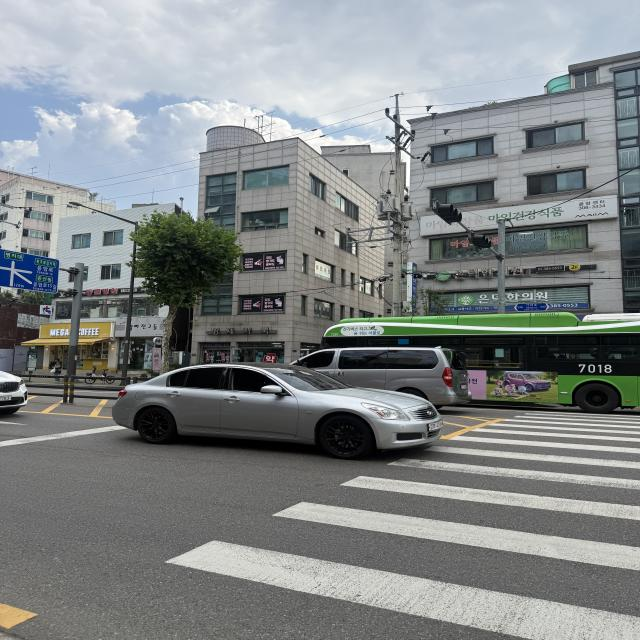car: (94, 343, 466, 486)
